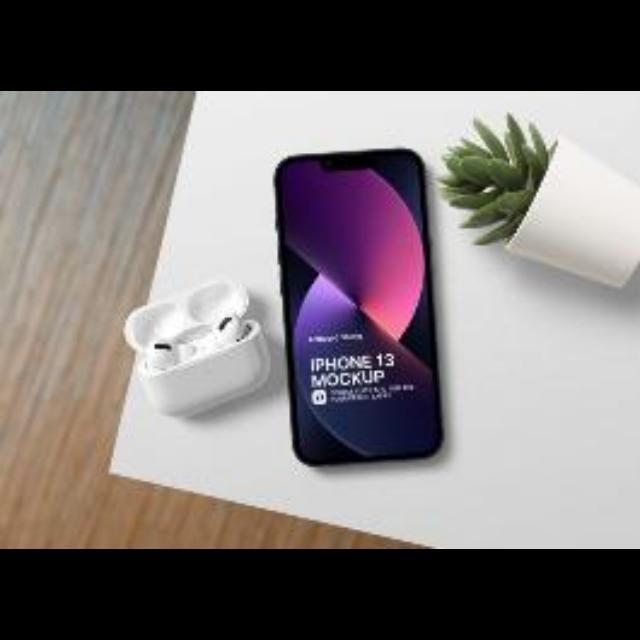Phone: (276, 147, 448, 470)
